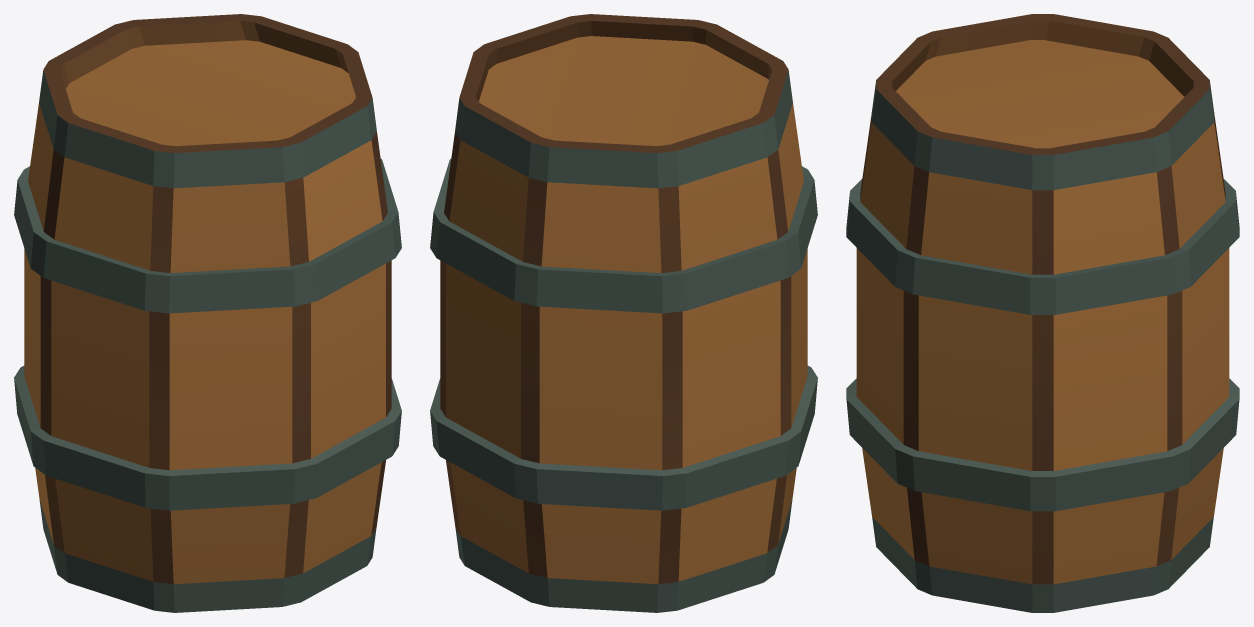
File: Barrel_01.fbx
The picture shows the model from 3 angles, left to right: view 1: azimuth 30°, elevation 25°; view 2: azimuth 150°, elevation 25°; view 3: azimuth 270°, elevation 25°; orthographic projection.
Parts seen in each view (by area): view 1: Barrel_01; view 2: Barrel_01; view 3: Barrel_01.
Part boxes in pixels (bbox=[...]): Barrel_01: bbox=[14, 14, 401, 612]; Barrel_01: bbox=[430, 14, 817, 612]; Barrel_01: bbox=[846, 14, 1239, 612].
Size of the model in its own units: 0.7 by 0.9 by 0.7.
